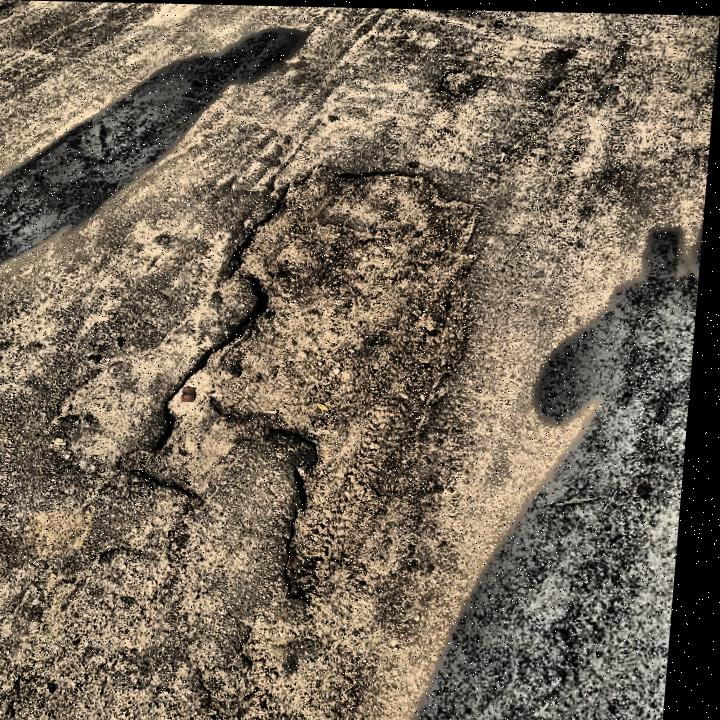pothole: (116, 153, 493, 603)
